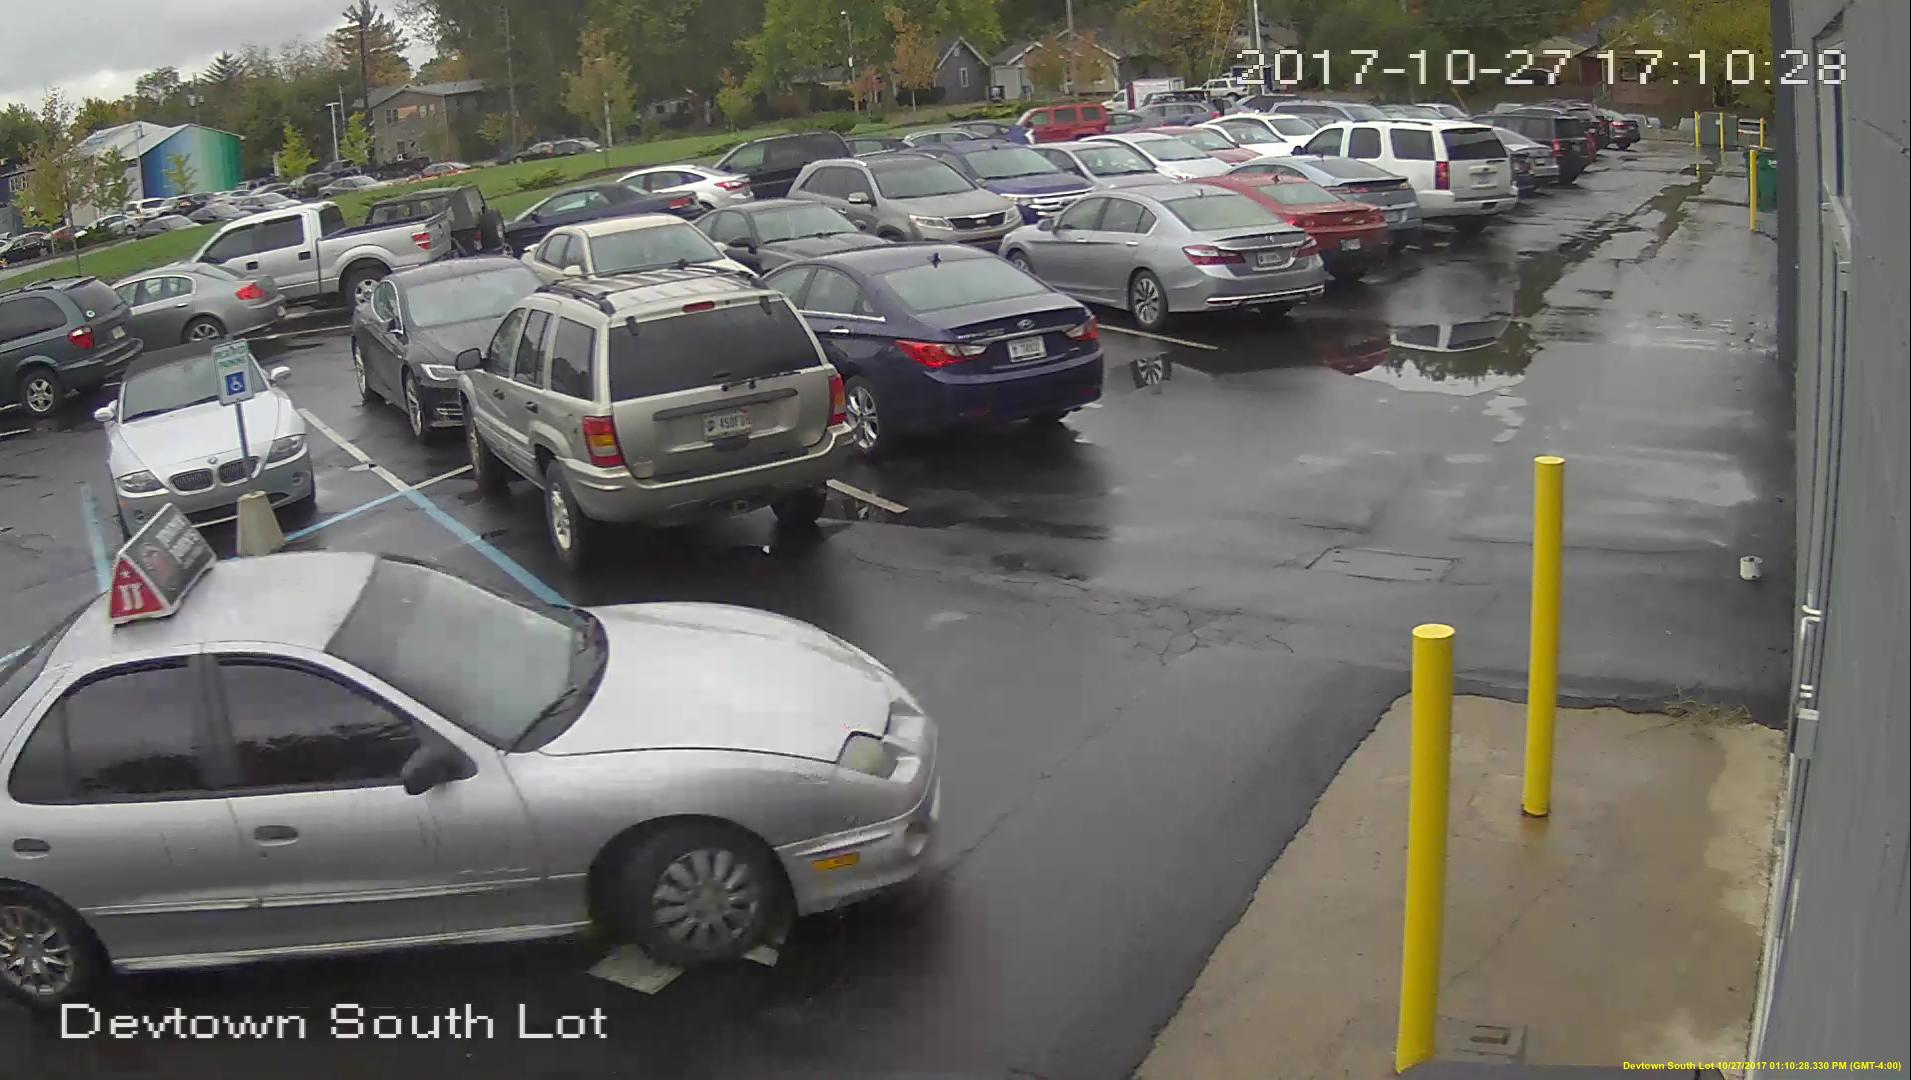jimmy_johns: (112, 504, 213, 630)
